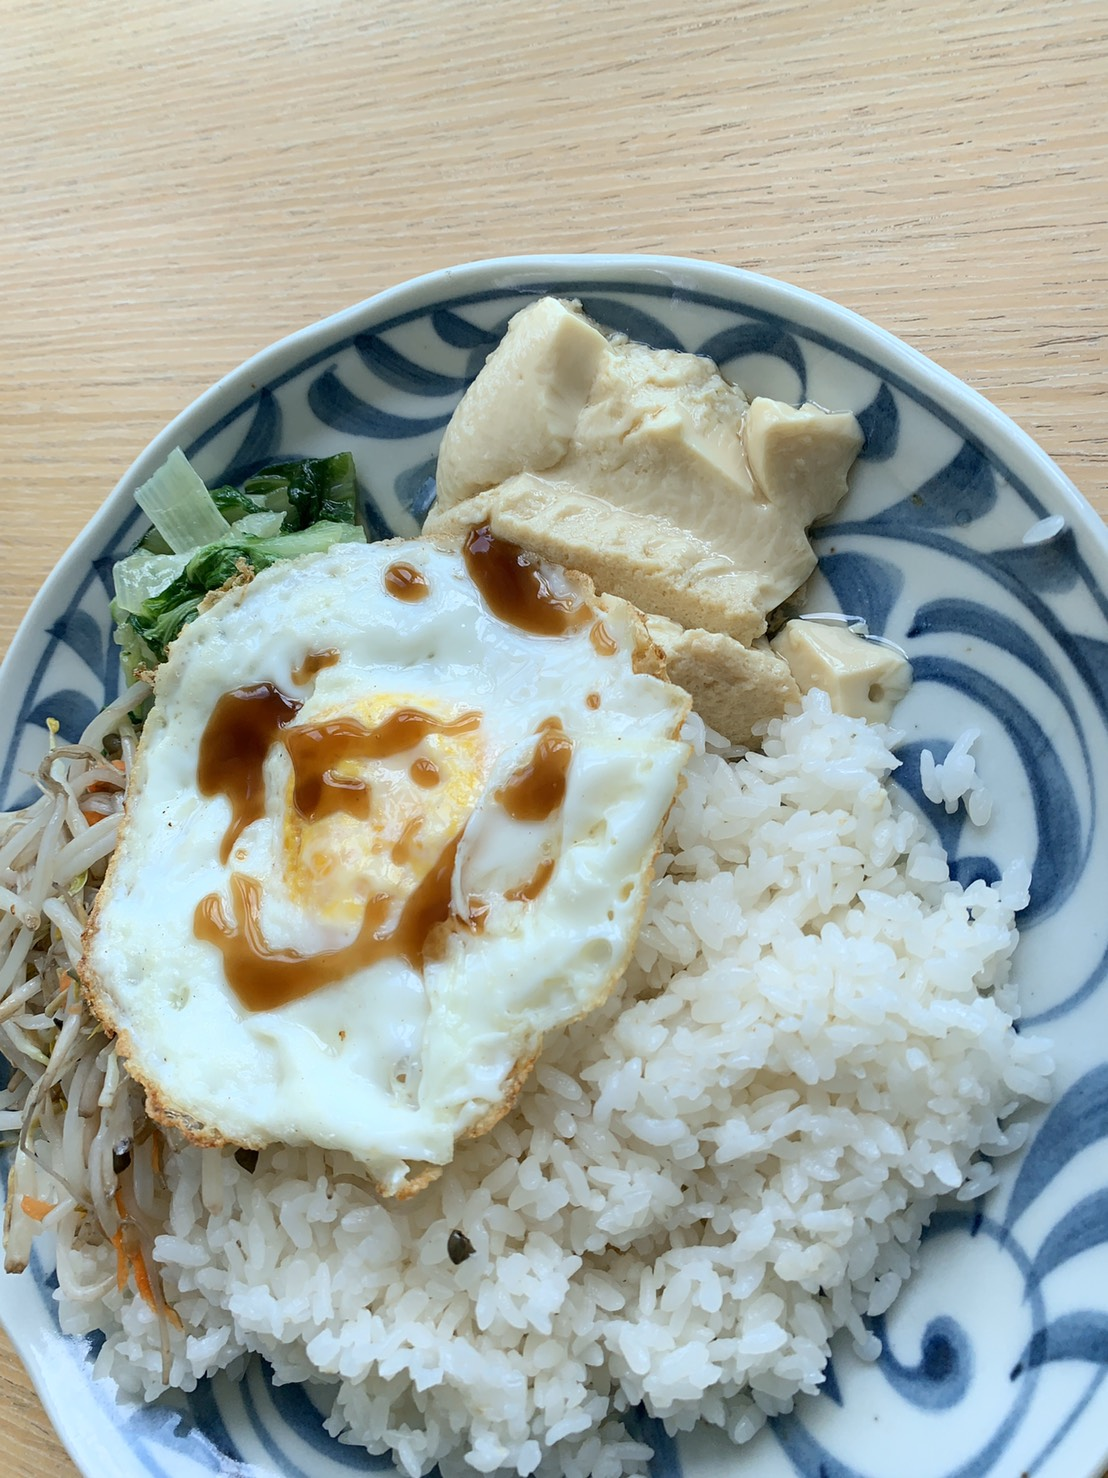fried_eggs: (154, 596, 596, 1074)
mung_bean_sprouts: (1, 784, 111, 1239)
rice: (659, 756, 1029, 1440), (183, 1153, 672, 1386)
